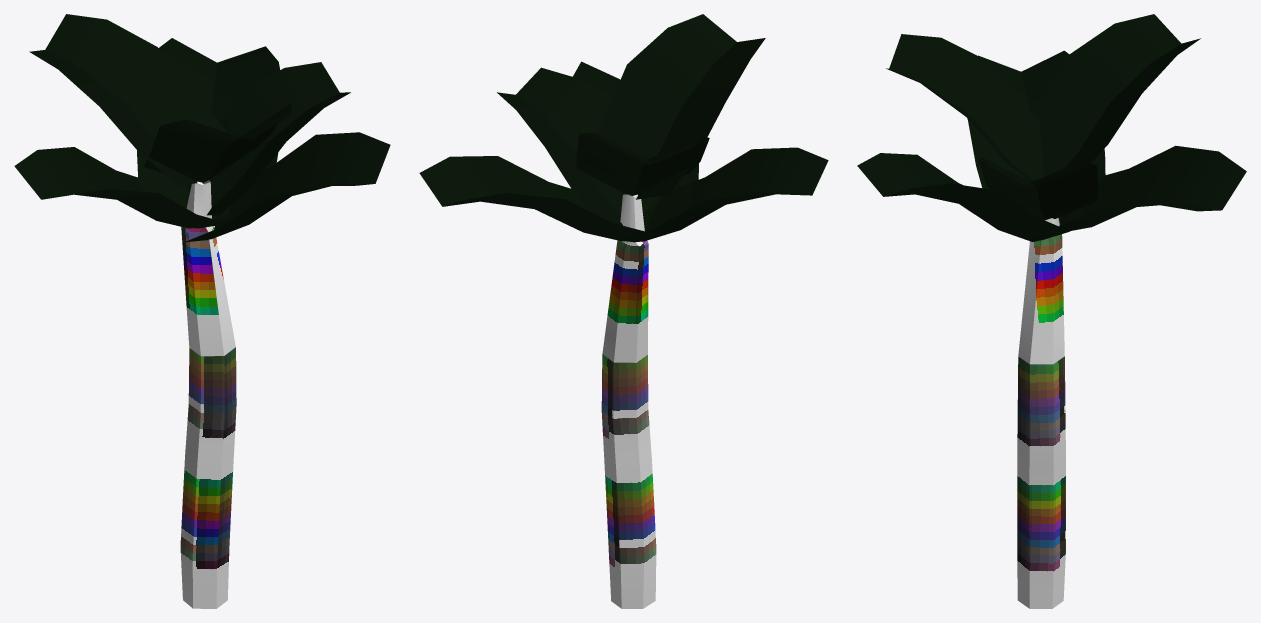
File: ArecaPalmFluffy.fbx
3 renders of one model, left to right at view 1: azimuth 30°, elevation 25°; view 2: azimuth 150°, elevation 25°; view 3: azimuth 270°, elevation 25°, orthographic. The views are drawn at different scales.
Visible parts, largest first — view 1: ArecaPalmFluffy; view 2: ArecaPalmFluffy; view 3: ArecaPalmFluffy.
Part boxes in pixels (<box>): ArecaPalmFluffy: <box>14,14,390,608</box>; ArecaPalmFluffy: <box>419,14,828,608</box>; ArecaPalmFluffy: <box>857,14,1246,608</box>.
Bounding box in the file's own units: 185 × 301 × 199.
